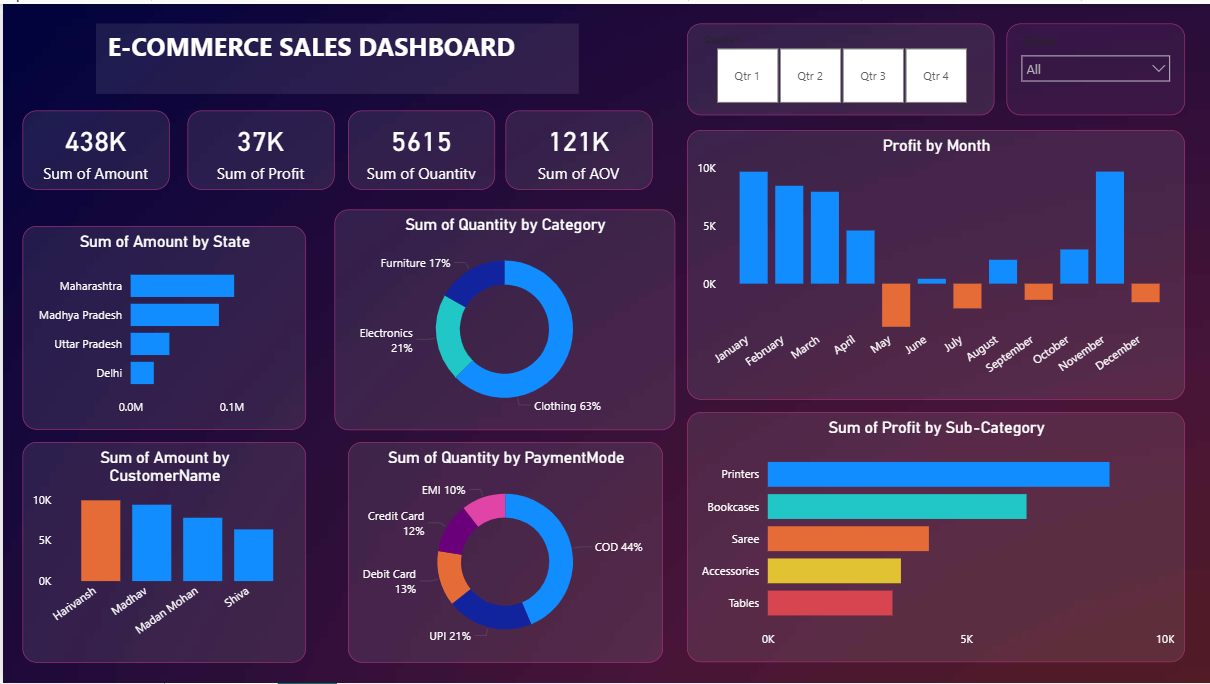

The page's visual inventory and layout, read from the dashboard file:
{"tool":"powerbi","page":{"name":"Page 1","canvas":[1280,720],"ordinal":0},"visuals":[{"type":"textbox","box":[98.6,20.7,512.2,74.8],"z":0},{"type":"columnChart","title":"Profit by Month","fields":{"Category":["Orders.Order Date.Variation.Date Hierarchy.Month"],"Y":["Sum(Details.Profit)"]},"box":[725.3,133.6,528.1,286.3],"z":1000},{"type":"barChart","fields":{"Y":["Sum(Details.Profit)"],"Category":["Details.Sub-Category"]},"box":[725.3,432.6,528.1,265.6],"z":2000},{"type":"donutChart","fields":{"Category":["Details.Category"],"Y":["Sum(Details.Quantity)"]},"box":[351.5,217.9,361.1,233.8],"z":3000},{"type":"donutChart","fields":{"Y":["Sum(Details.Quantity)"],"Category":["Details.PaymentMode"]},"box":[365.8,464.5,334,233.8],"z":4000},{"type":"card","fields":{"Values":["Sum(Details.Amount)"]},"box":[20.7,112.9,155.9,84.3],"z":5000},{"type":"card","fields":{"Values":["Sum(Details.Profit)"]},"box":[195.6,112.9,155.9,84.3],"z":6000},{"type":"card","fields":{"Values":["Sum(Details.Quantity)"]},"box":[365.8,112.9,155.9,84.3],"z":7000},{"type":"card","fields":{"Values":["Sum(Details.AOV)"]},"box":[532.9,112.9,155.9,84.3],"z":8000},{"type":"barChart","fields":{"Y":["Sum(Details.Amount)"],"Category":["Orders.State"]},"box":[20.7,235.4,300.6,216.3],"z":9000},{"type":"columnChart","fields":{"Category":["Orders.CustomerName"],"Y":["Sum(Details.Amount)"]},"box":[20.7,464.5,300.6,233.8],"z":10000},{"type":"slicer","fields":{"Values":["Orders.State"]},"box":[1064.1,20.7,189.3,97],"z":11000},{"type":"slicer","fields":{"Values":["Orders.Order Date.Variation.Date Hierarchy.Quarter"]},"box":[725.3,20.7,326.1,97],"z":12000}]}

Visuals, with their boxes in screenshot pixels (x1, y1, x2, y2), scaled from the page's 1280x720 canvas onto the 1210x684 screenshot:
textbox: [93,20,577,91]
"Profit by Month" columnChart: [686,127,1185,399]
barChart - Sum(Details.Profit) x Details.Sub-Category: [686,411,1185,663]
donutChart - Details.Category x Sum(Details.Quantity): [332,207,674,429]
donutChart - Sum(Details.Quantity) x Details.PaymentMode: [346,441,662,663]
card - Sum(Details.Amount): [20,107,167,187]
card - Sum(Details.Profit): [185,107,332,187]
card - Sum(Details.Quantity): [346,107,493,187]
card - Sum(Details.AOV): [504,107,651,187]
barChart - Sum(Details.Amount) x Orders.State: [20,224,304,429]
columnChart - Orders.CustomerName x Sum(Details.Amount): [20,441,304,663]
slicer - Orders.State: [1006,20,1185,112]
slicer - Orders.Order Date.Variation.Date Hierarchy.Quarter: [686,20,994,112]
